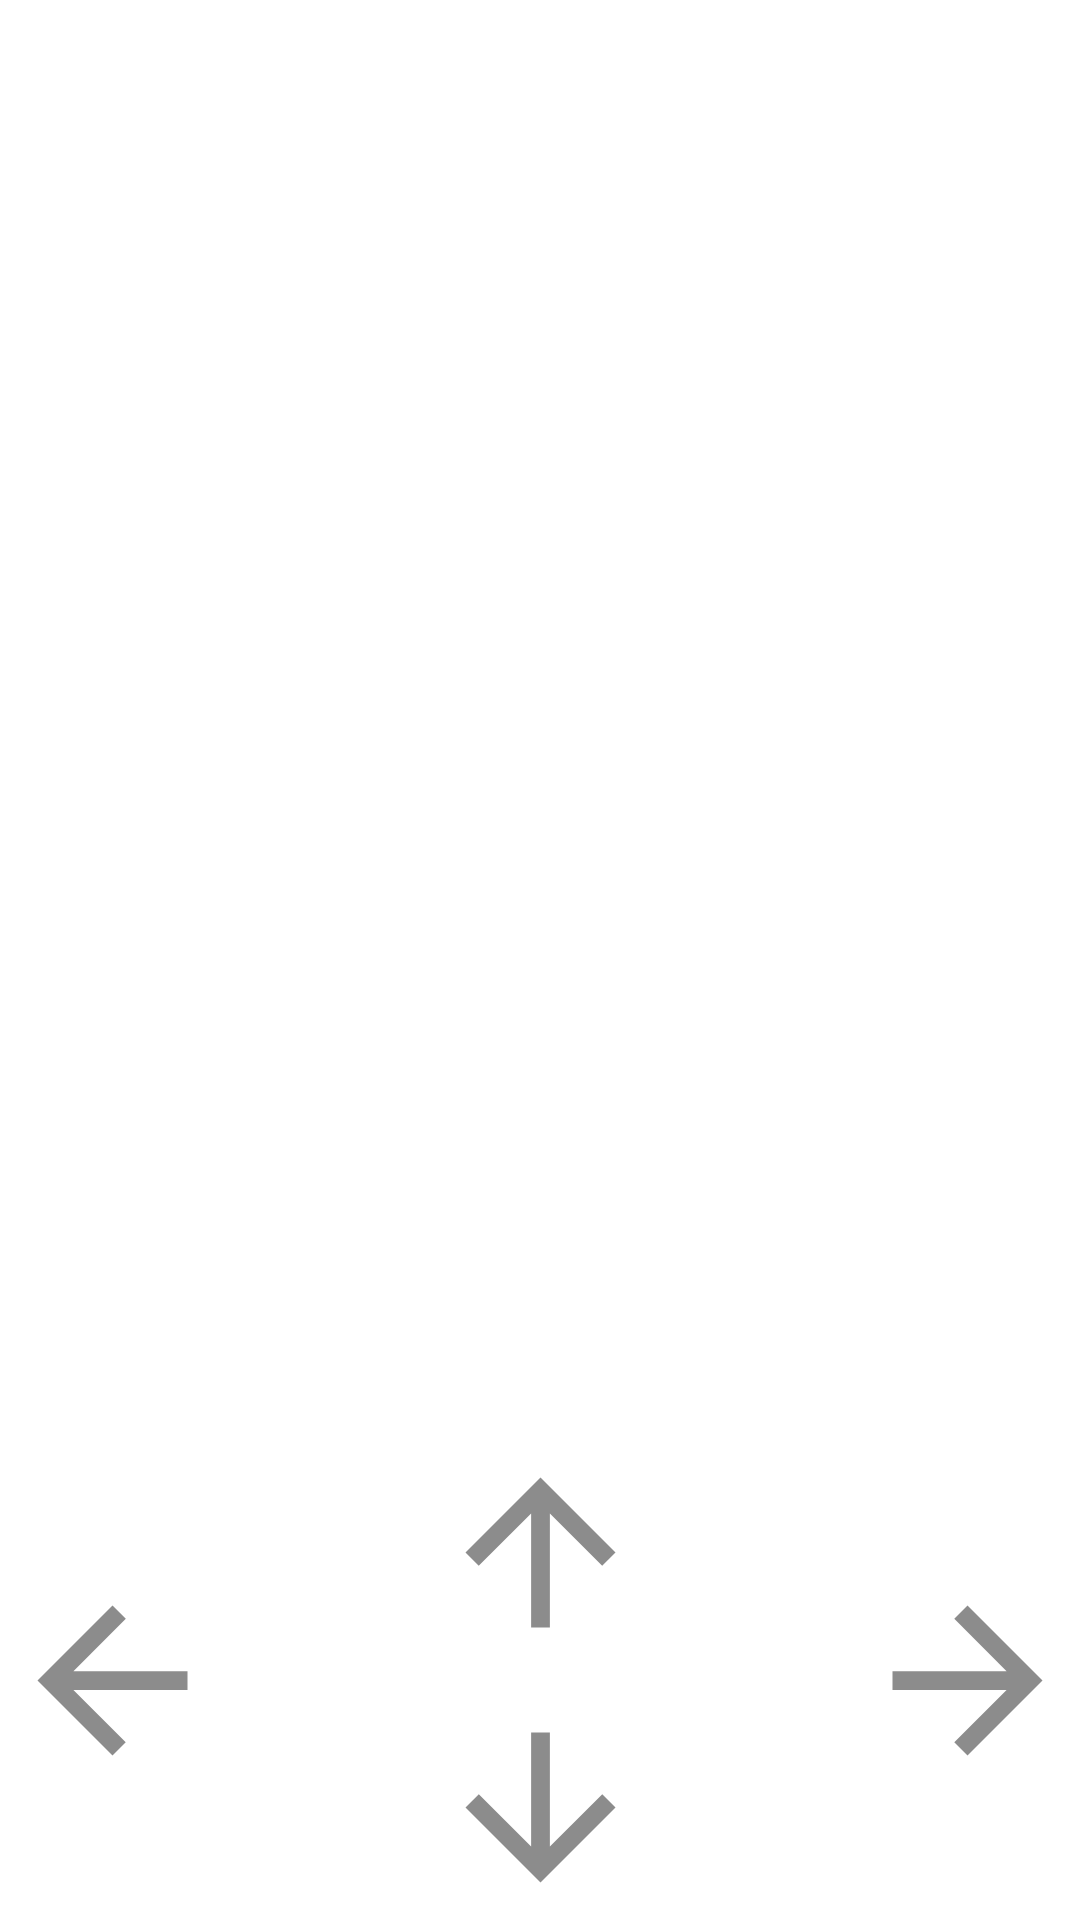

Locate icon controls on the screen. Image size 1080 × 1920, boxes as (x1, y1, x2, y2).
arrow down: (465, 1732, 616, 1883)
arrow left: (37, 1605, 188, 1756)
arrow right: (892, 1605, 1043, 1756)
arrow up: (465, 1477, 616, 1628)
